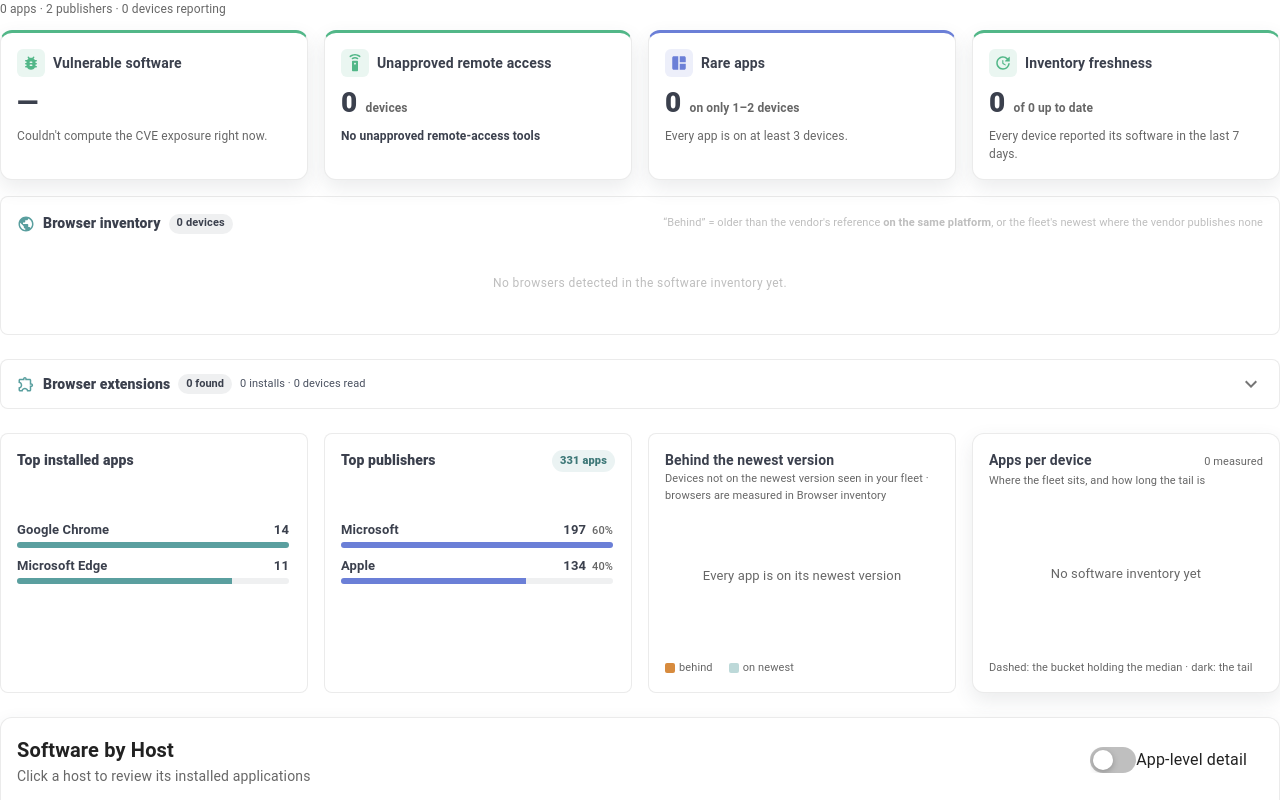
SoftwareInventory — filas del ranking › ⭐ una app del ranking abre la vista por aplicación filtrada por ESA app
The image size is (1280, 800).
Click the button "Google Chrome 14". click: click(63, 529)
box: [17,520,289,539]
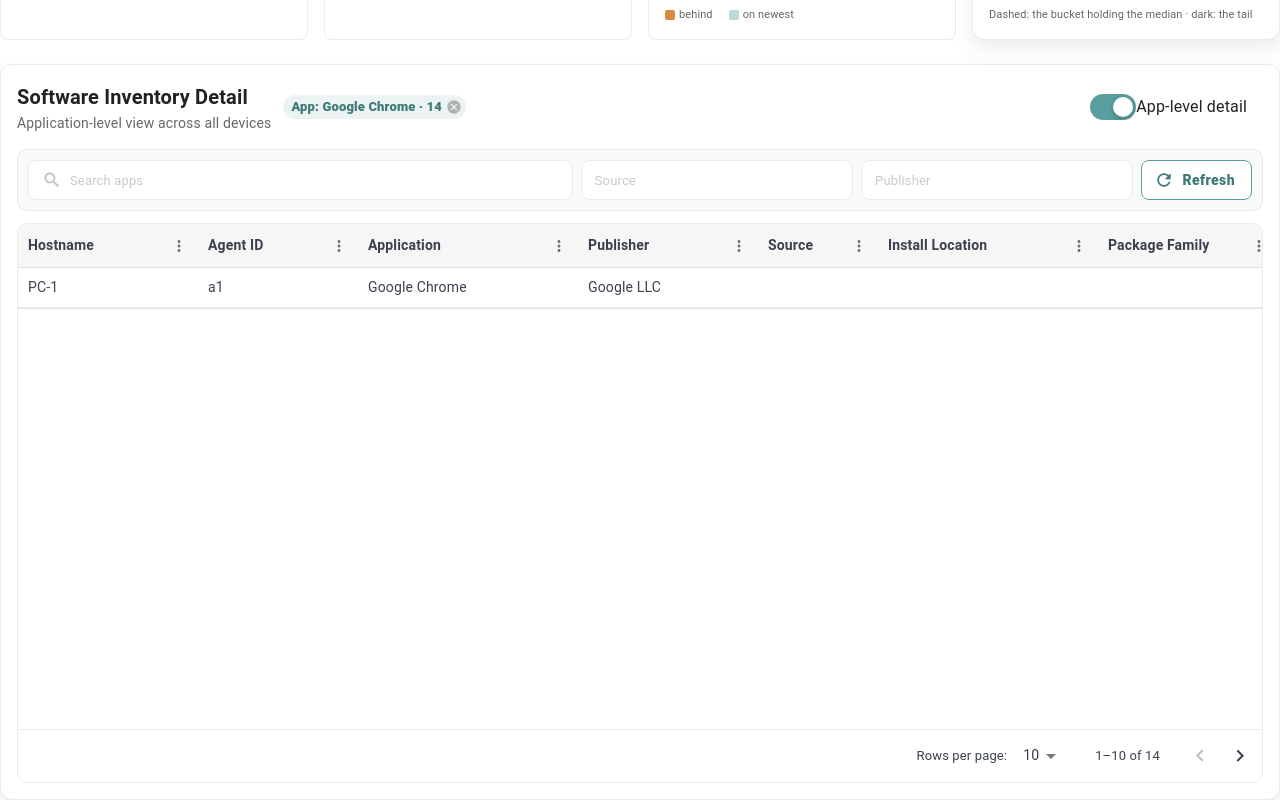
Now the text "App: Google Chrome · 14" is shown, box [283,97,450,117]
Now the heading "Software Inventory Detail" is shown, box [17,81,271,113]
